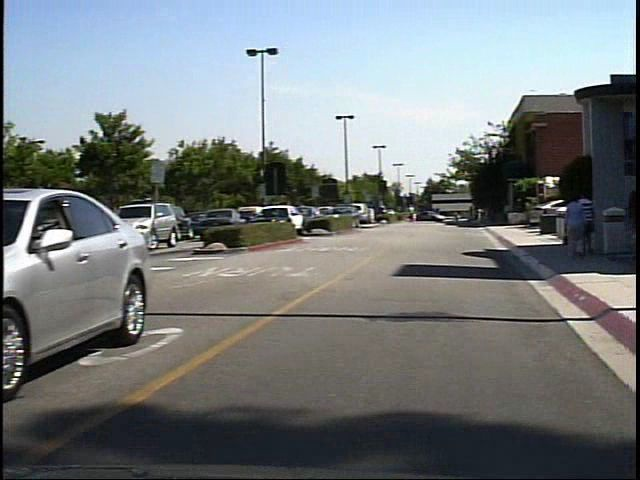person: (572, 191, 598, 265), (587, 190, 607, 258), (414, 204, 425, 224)
